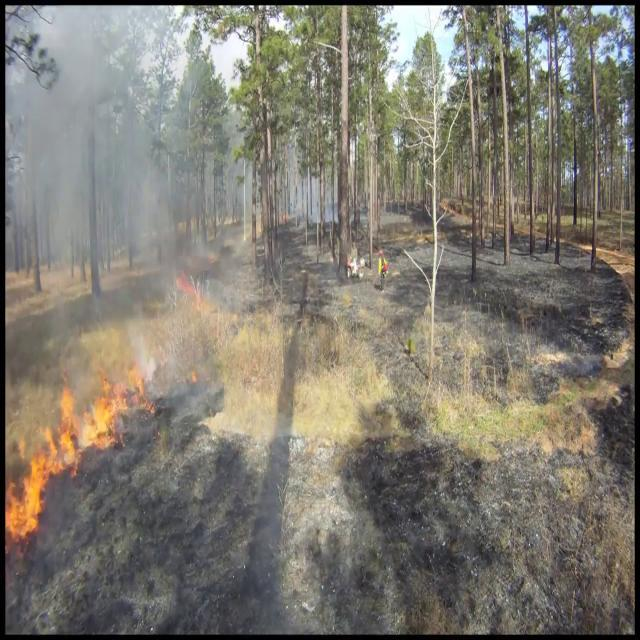Fire: (5, 377, 80, 547), (86, 358, 156, 449)
Smoke: (7, 6, 212, 380)
